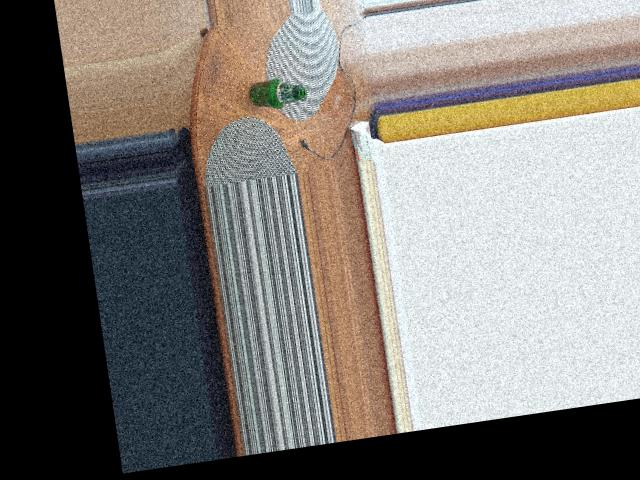beer: (247, 74, 308, 111)
